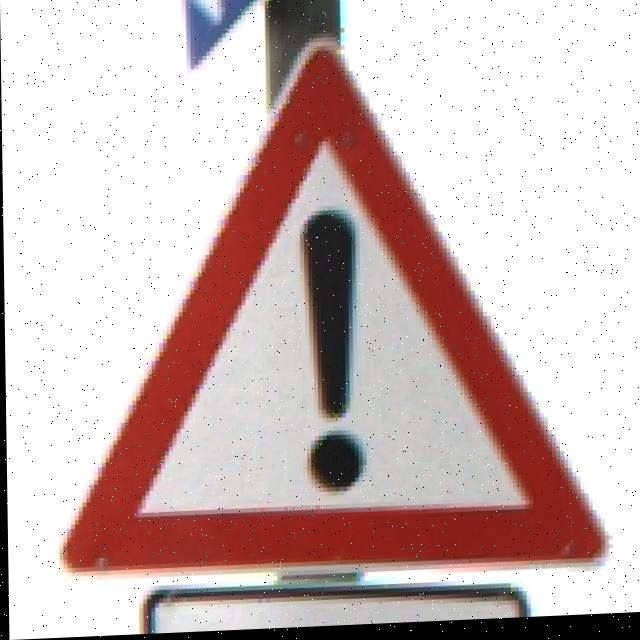warning: (37, 72, 602, 583)
